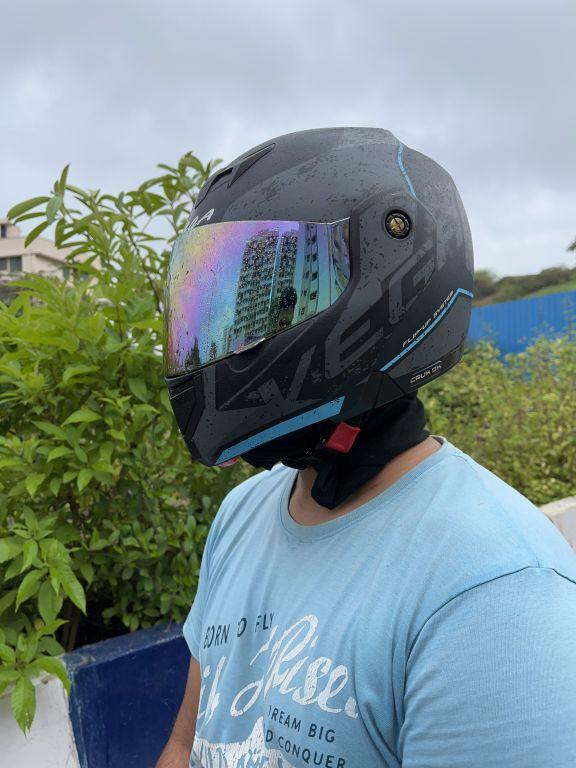helmet: (150, 119, 481, 482)
